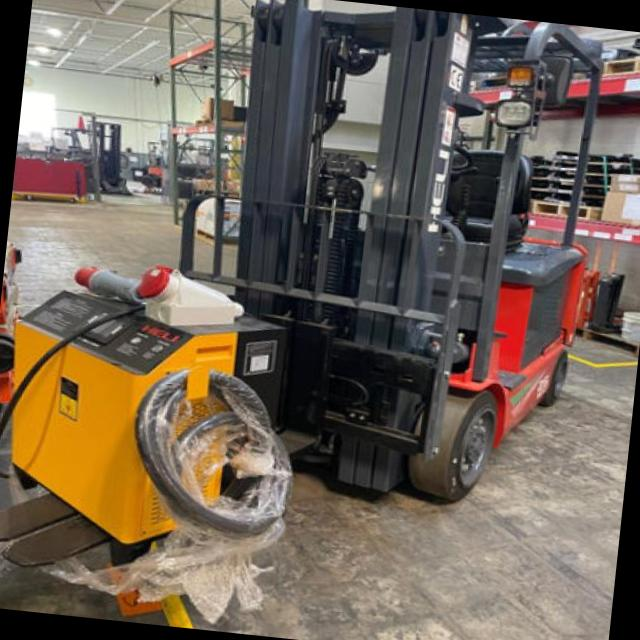forklift: (111, 0, 640, 581)
